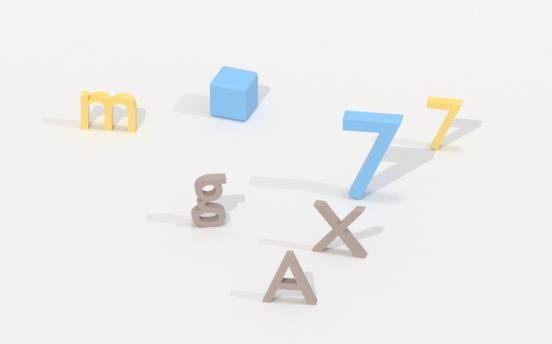chu_khoi: (312, 200, 366, 257), (263, 250, 316, 304), (81, 91, 136, 131), (191, 173, 225, 226)
lap_phuong: (210, 66, 258, 121)
so_khoi: (343, 111, 402, 198), (427, 96, 462, 149)
